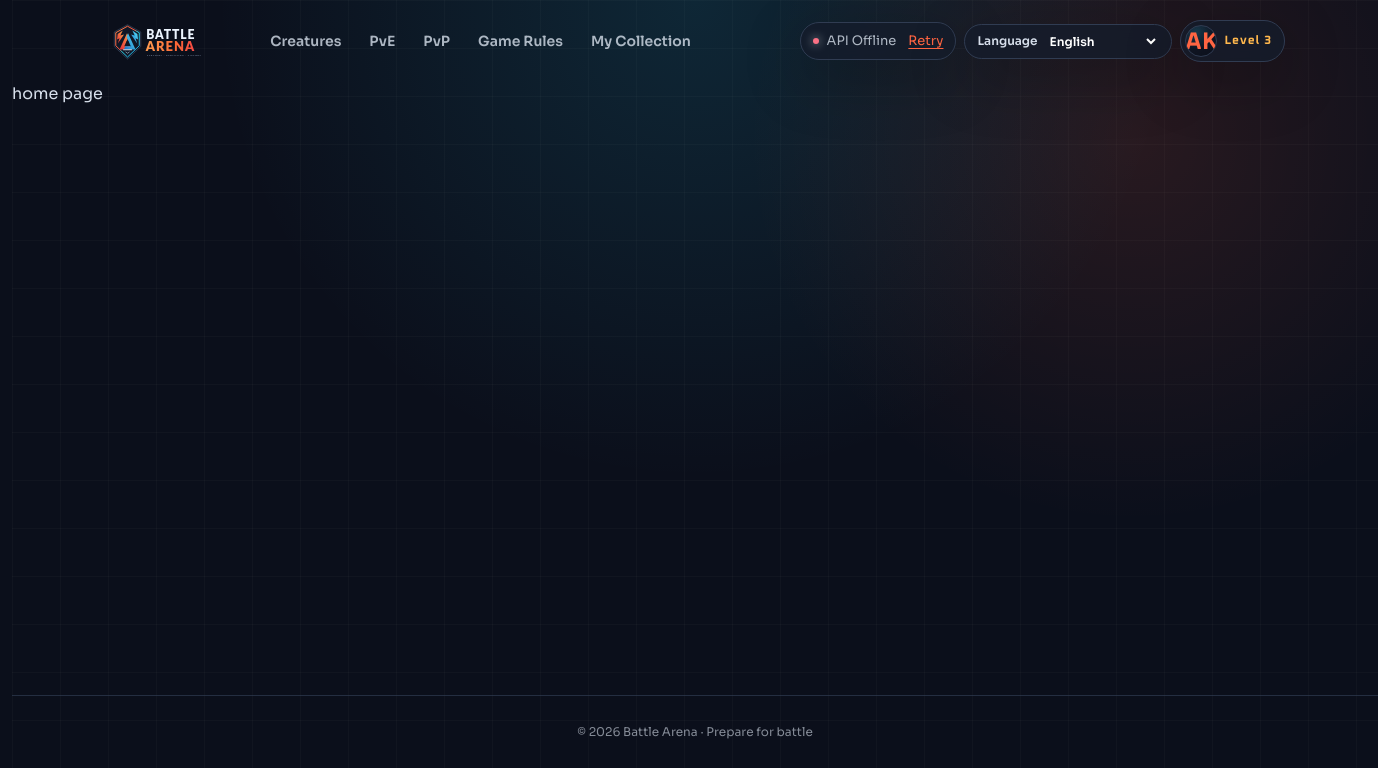
Test: AppShell navigation › closes the dropdown after navigating from it
Step 1. Click the button with aria-label "Account menu" → x=1232, y=41, box [1180, 20, 1285, 62]
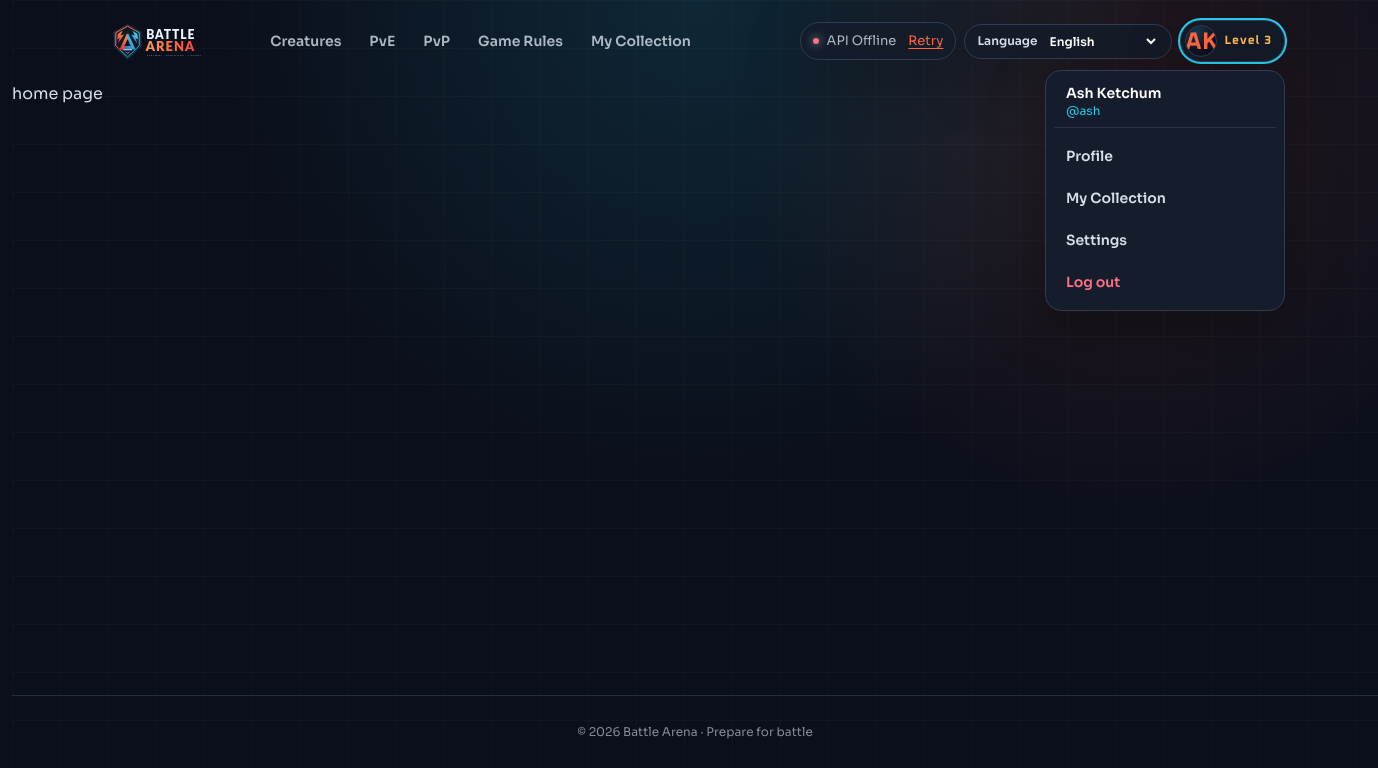
Step 2. Click the link "Profile" → x=1090, y=156, box [1066, 147, 1113, 165]
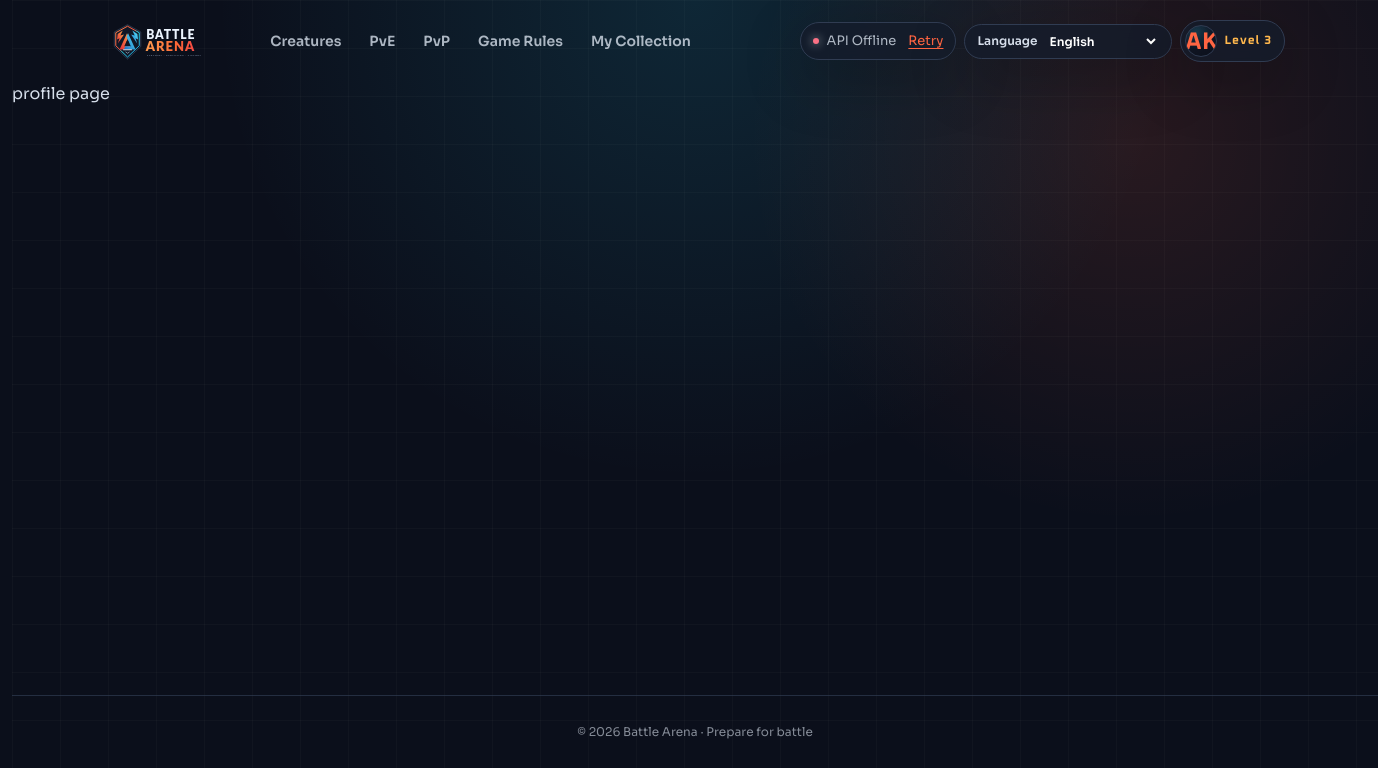
Now the text "profile page" is shown, box [12, 83, 110, 104]
Now the link "Settings" is gone
